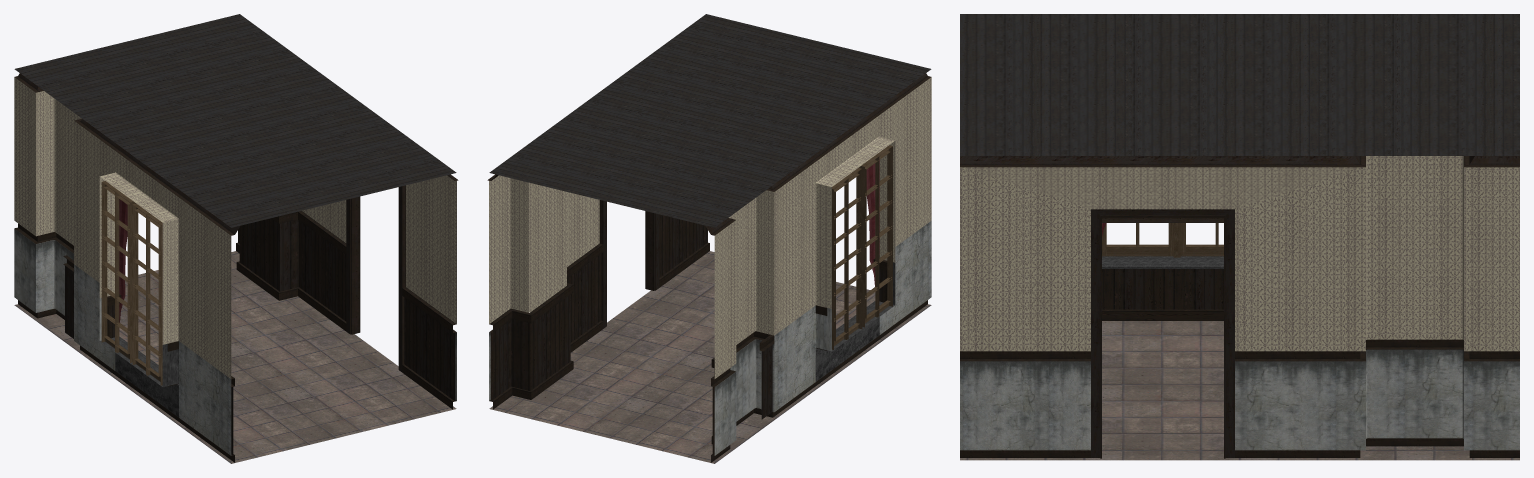
The model's file is Prefab_Corridor_2.fbx.
The picture shows the model from 3 angles, left to right: view 1: azimuth 30°, elevation 25°; view 2: azimuth 150°, elevation 25°; view 3: azimuth 270°, elevation 25°; orthographic projection. The views are drawn at different scales.
Visible parts, largest first — view 1: Cube_005; view 2: Cube_005; view 3: Cube_005.
Part boxes in pixels (bbox=[...]): Cube_005: bbox=[14, 14, 458, 463]; Cube_005: bbox=[487, 14, 931, 463]; Cube_005: bbox=[960, 14, 1519, 460].
Size of the model in its own units: 13.15 by 12 by 20.
